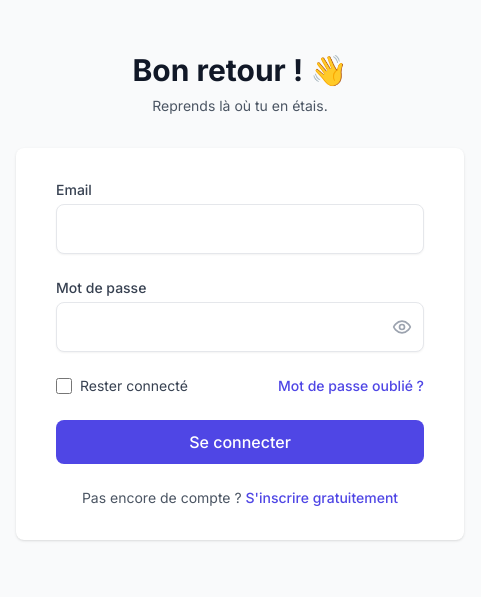
Test: LoginPage Integration › Error handling › should display generic error on network failure
Step 1. Type "test@example.com" into the field labelled "Email" → (240, 229), box left=56, top=204, right=424, bottom=254
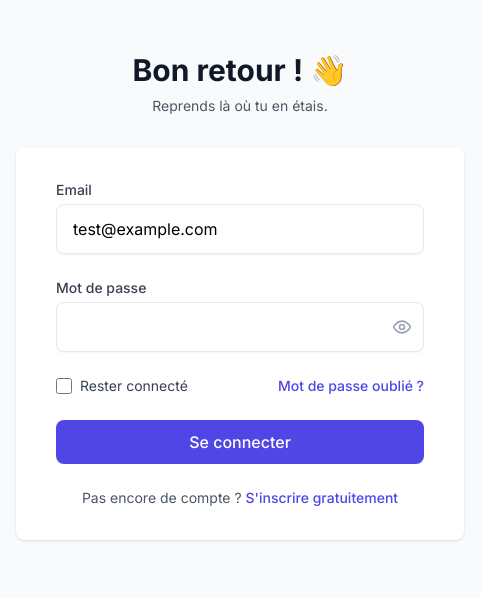
Step 2. Type "password123" into the password field labelled "Mot de passe" → (240, 327), box left=56, top=302, right=424, bottom=352
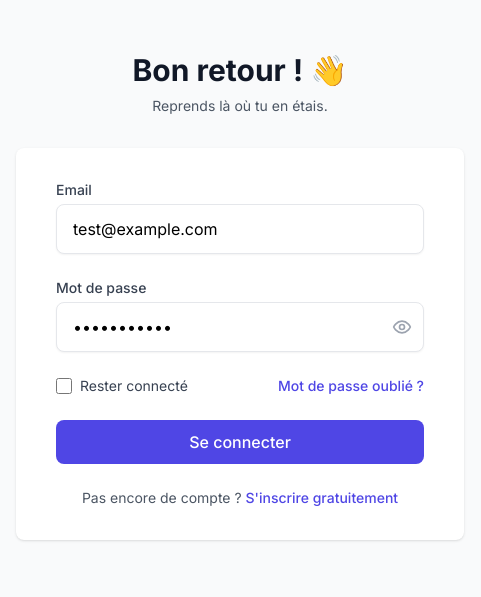
Step 3. Click the button "Se connecter" → (240, 442), box left=56, top=420, right=424, bottom=464
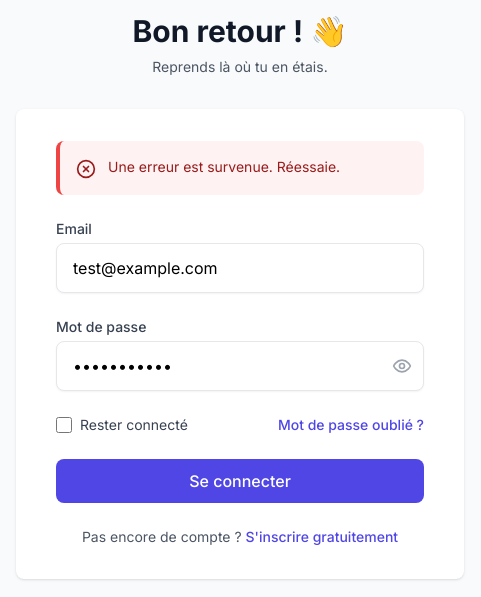
Check: the message shows "Une erreur est survenue", box left=108, top=158, right=340, bottom=175
